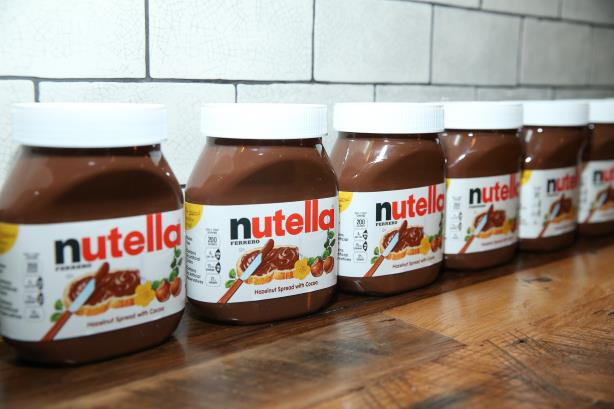nutella: (1, 99, 185, 370), (186, 101, 338, 325), (336, 102, 445, 297), (443, 102, 522, 273), (521, 98, 585, 255)
